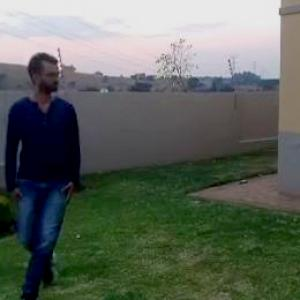follow: (17, 44, 91, 299)
